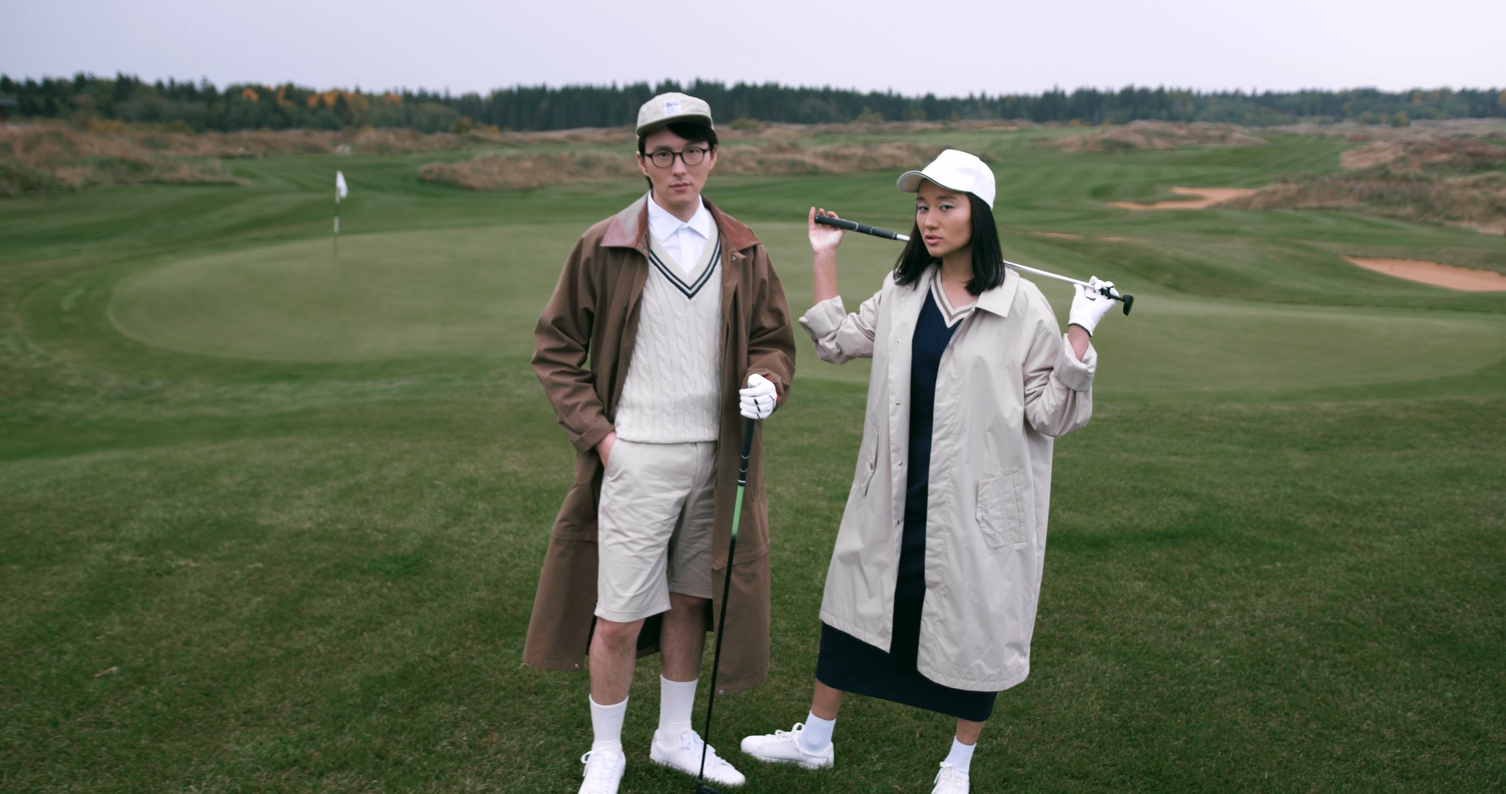No-gloves: (800, 198, 865, 282)
gloves: (1068, 268, 1142, 343), (735, 362, 796, 430)
